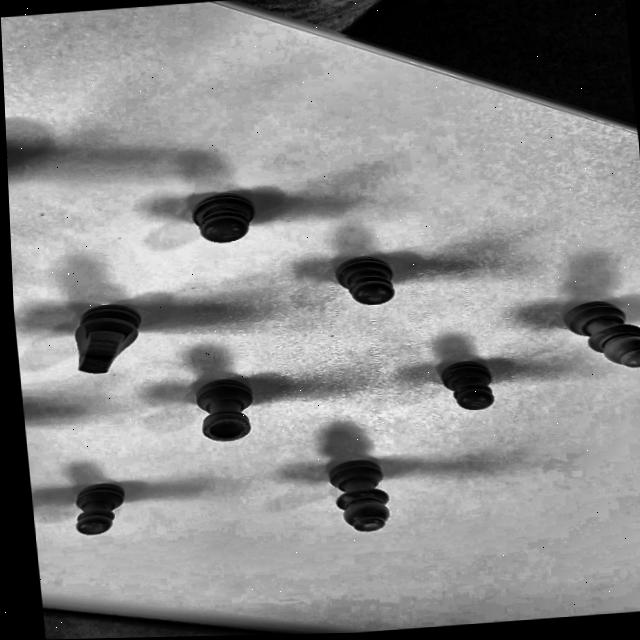black-bishop: (312, 445, 410, 543), (545, 291, 640, 379)
black-knight: (56, 291, 151, 387)
black-pawn: (166, 184, 270, 257), (50, 467, 144, 546), (311, 244, 416, 314), (419, 352, 511, 422)
black-rook: (174, 364, 281, 458)
